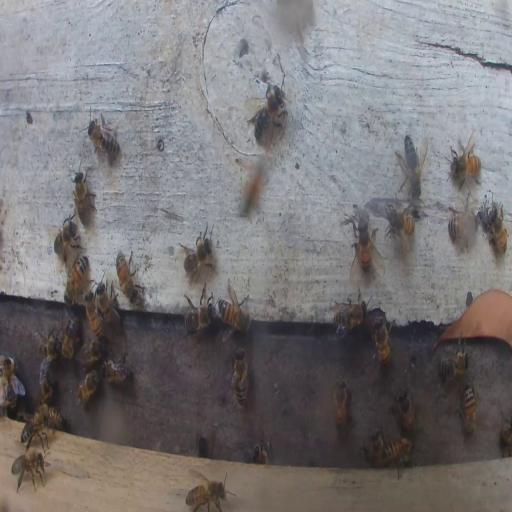bee: (246, 81, 288, 142), (216, 280, 252, 336), (180, 225, 216, 278), (86, 110, 121, 162), (396, 136, 424, 198), (386, 202, 415, 256), (483, 198, 509, 256), (332, 295, 367, 337), (240, 162, 266, 218), (382, 435, 415, 479), (183, 286, 213, 334), (52, 210, 80, 261), (448, 141, 480, 185), (12, 450, 46, 491), (72, 169, 97, 224), (186, 478, 228, 510), (351, 212, 372, 275), (1, 354, 24, 410), (94, 280, 120, 329), (114, 249, 138, 302), (64, 256, 89, 306), (370, 313, 393, 367), (20, 410, 51, 449), (231, 346, 249, 406), (394, 387, 416, 435), (333, 373, 350, 431), (458, 383, 476, 436), (86, 292, 105, 342), (36, 326, 62, 362), (361, 426, 384, 466), (440, 351, 468, 382), (101, 353, 130, 382), (37, 361, 55, 407), (77, 367, 100, 403), (448, 209, 468, 246), (62, 315, 78, 360), (80, 336, 102, 366), (41, 408, 69, 430), (499, 412, 512, 452), (248, 443, 269, 463)
